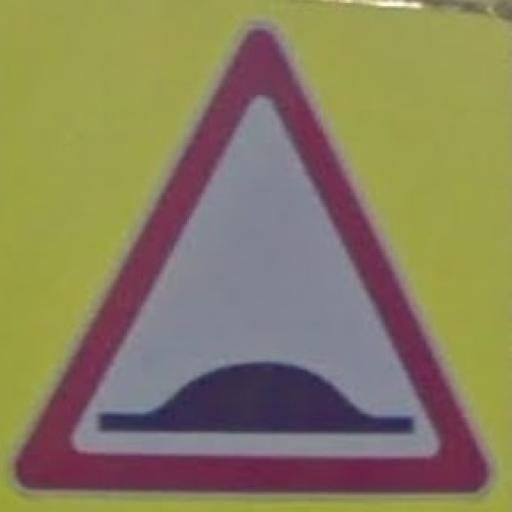traffic_sign: (12, 17, 497, 502)
